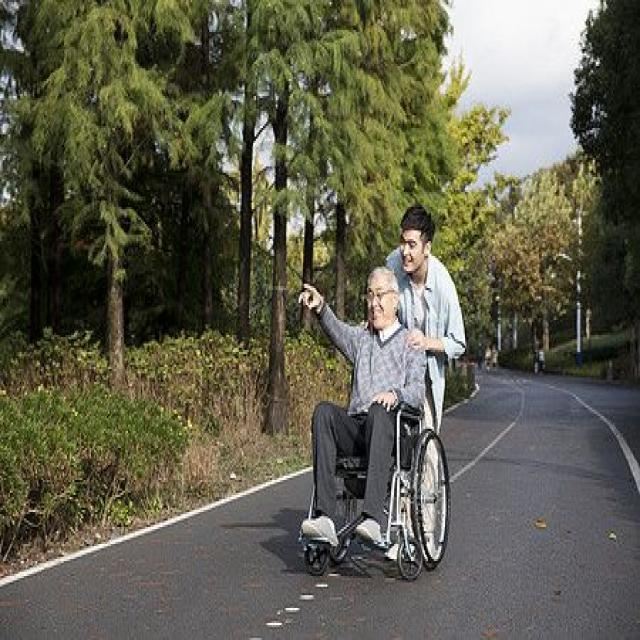wheelchairs: (297, 352, 455, 591)
